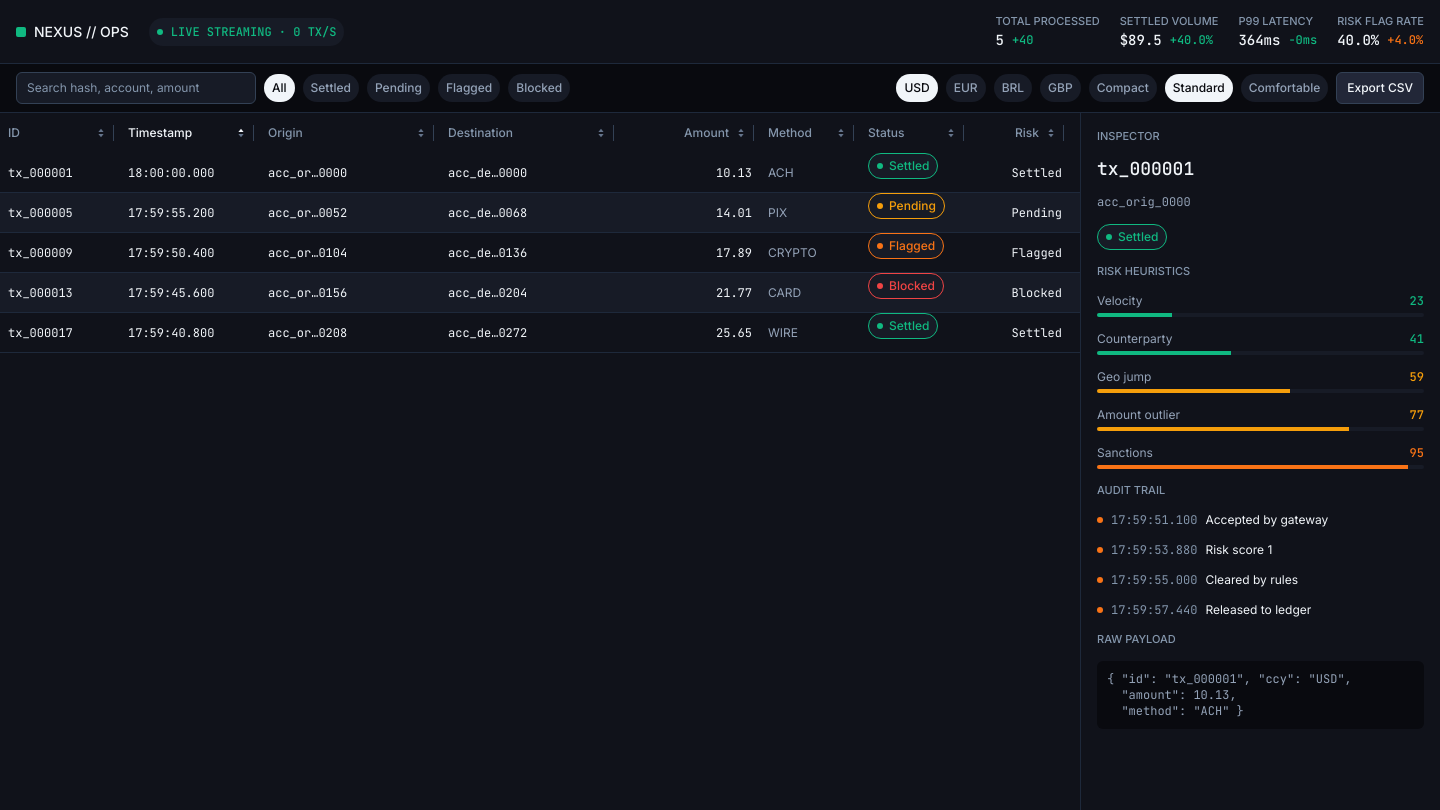
Test: console flow › opens the clicked transaction in the inspector
Click the cell "tx_000005". click: (40, 212)
box: [8, 204, 73, 220]
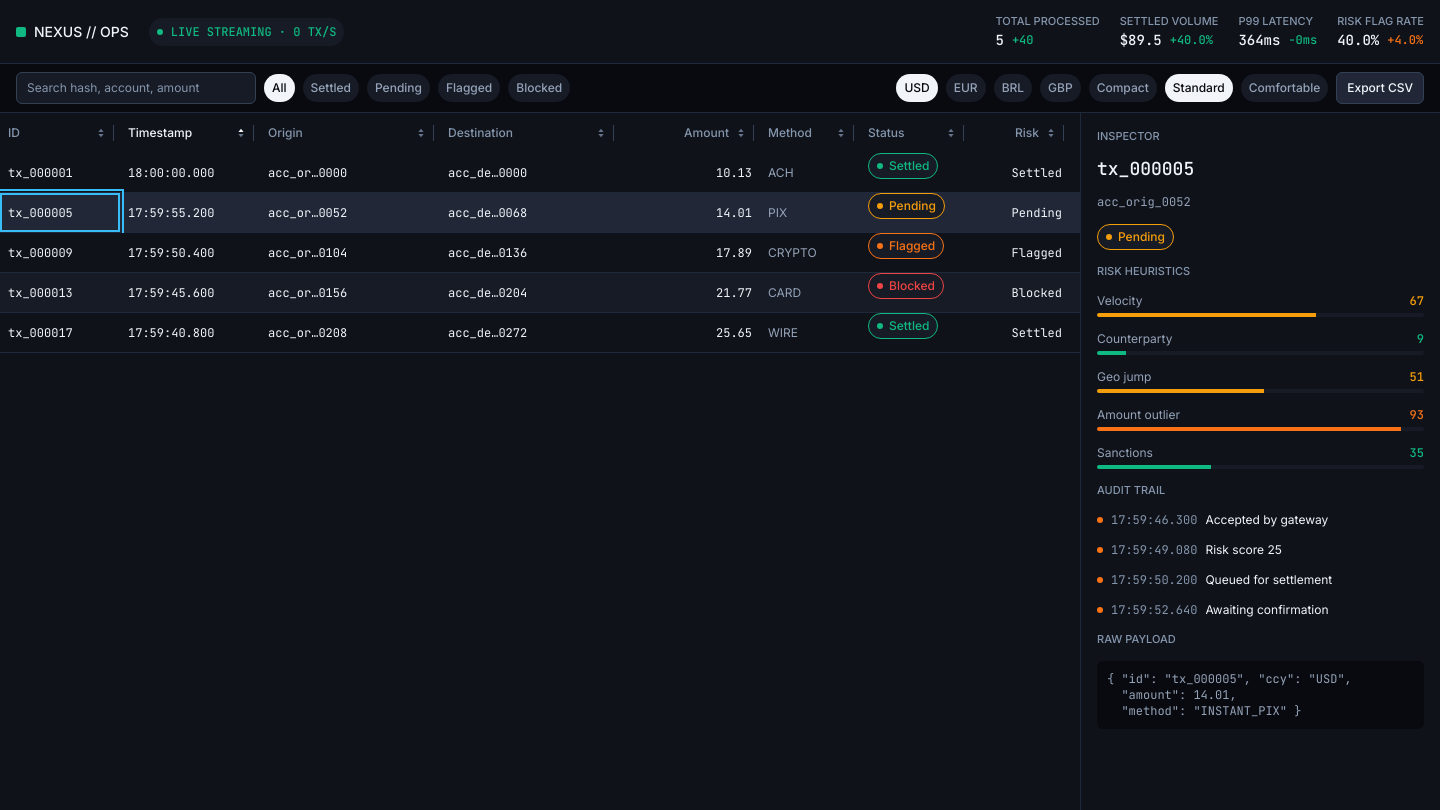
Expected: the heading "RISK HEURISTICS" is shown, [1097, 264, 1190, 278]
Expected: the text "tx_000005" below "INSPECTOR" is shown, [1097, 157, 1194, 180]
